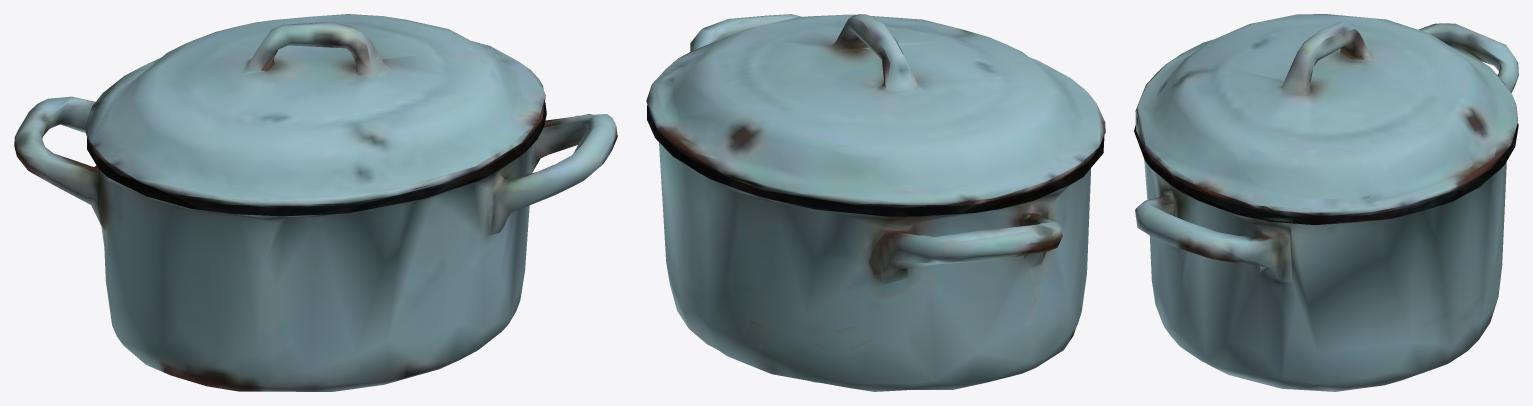
Rendered from olla.movil.glb.
3 views of the same model, side by side, from view 1: azimuth 30°, elevation 25°; view 2: azimuth 150°, elevation 25°; view 3: azimuth 270°, elevation 25° (orthographic). The views are drawn at different scales.
Parts seen in each view (by area): view 1: geometry_0; view 2: geometry_0; view 3: geometry_0.
Part boxes in pixels (<box>): geometry_0: <box>14,14,617,391</box>; geometry_0: <box>646,14,1105,391</box>; geometry_0: <box>1134,14,1518,391</box>.
Size of the model in its own units: 0.2992 by 0.1791 by 0.2196.
Materials: 1 (1 with a texture image).
